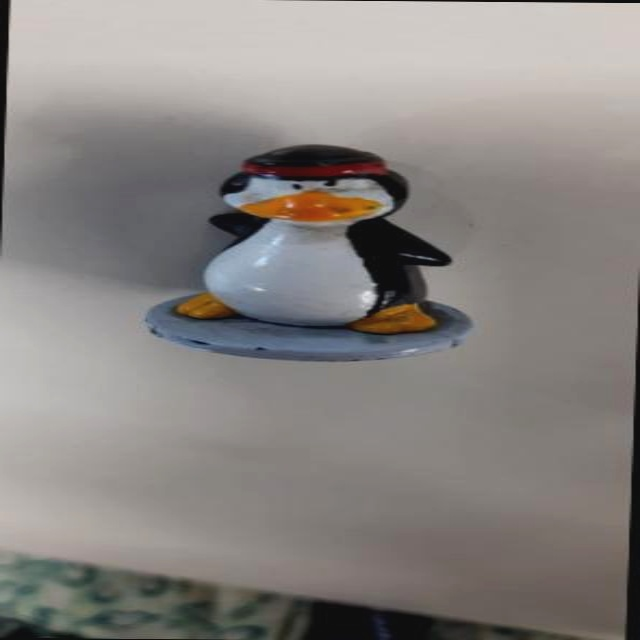Penguin: (120, 120, 509, 396)
